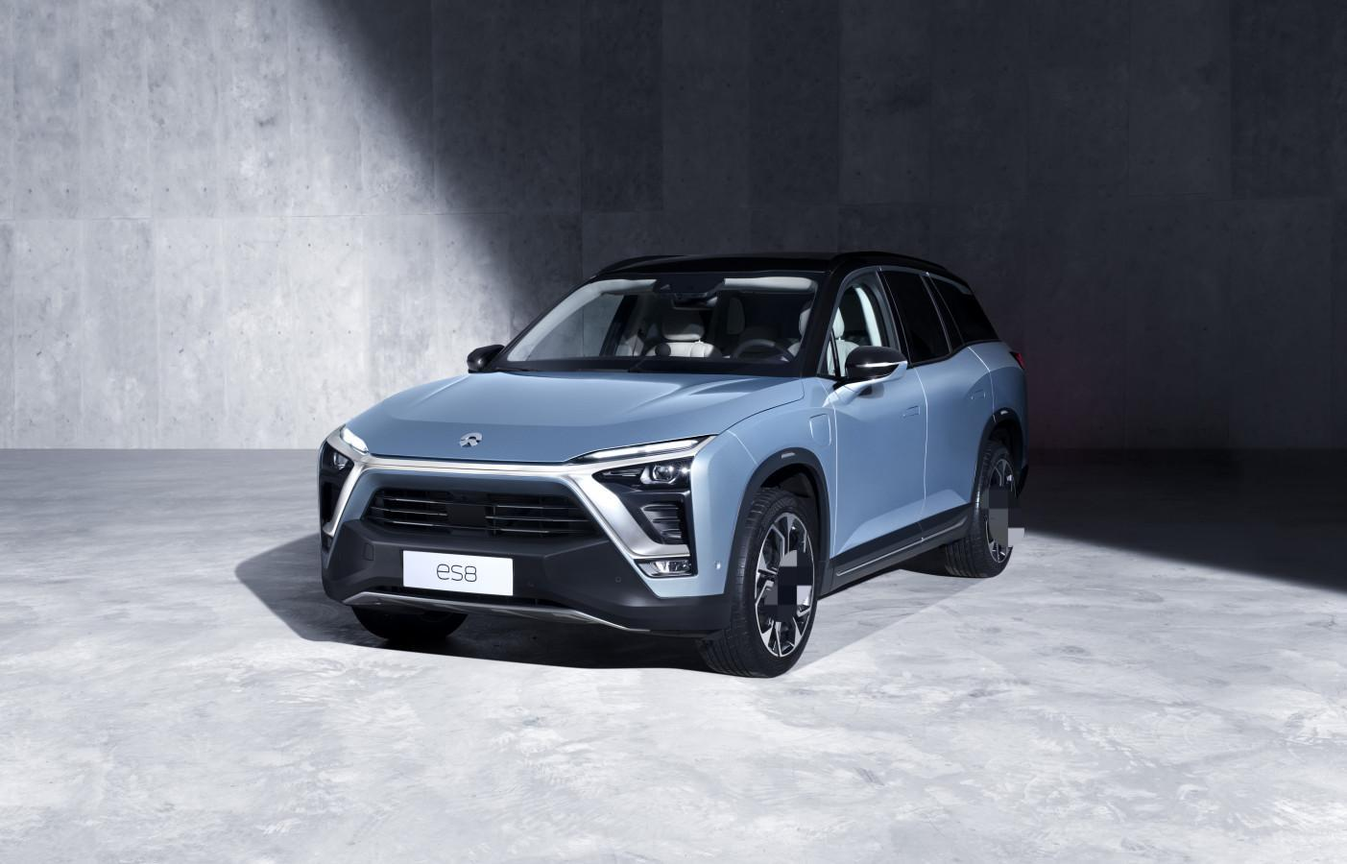NIO: (459, 432, 482, 447)
